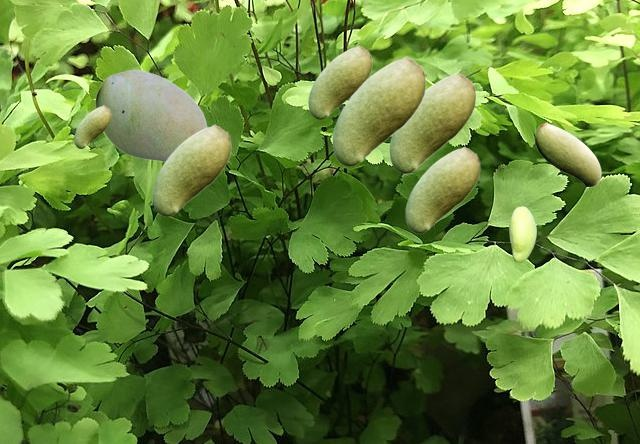green_mango: (95, 69, 206, 162), (332, 56, 425, 165), (389, 72, 475, 172), (152, 124, 230, 215), (405, 146, 479, 232), (308, 45, 371, 118), (535, 122, 600, 186), (74, 105, 110, 147), (509, 206, 535, 261)
